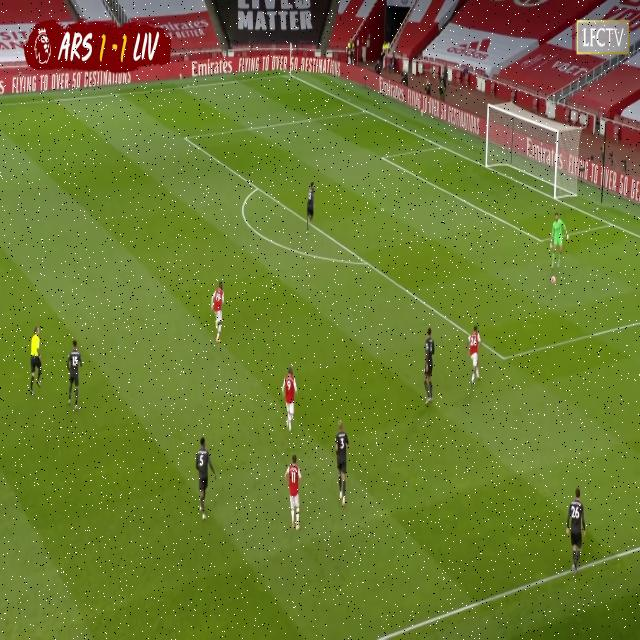Ball: (550, 272, 557, 288)
GoalKeeper: (550, 212, 566, 274)
TEAM 1: (284, 455, 302, 531), (280, 368, 296, 432), (467, 326, 482, 386), (212, 282, 226, 344)
TEAM 2: (194, 441, 216, 522), (568, 490, 588, 574), (332, 417, 347, 503), (64, 342, 82, 410), (422, 328, 437, 408), (306, 182, 316, 234)
